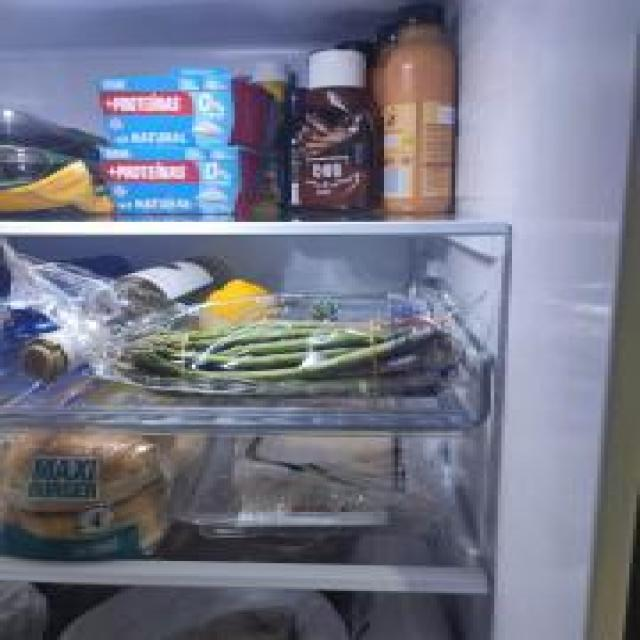asparagus: (116, 310, 471, 398)
cheese: (235, 435, 412, 504)
lemon: (199, 280, 277, 330)
milk: (348, 591, 458, 640)
